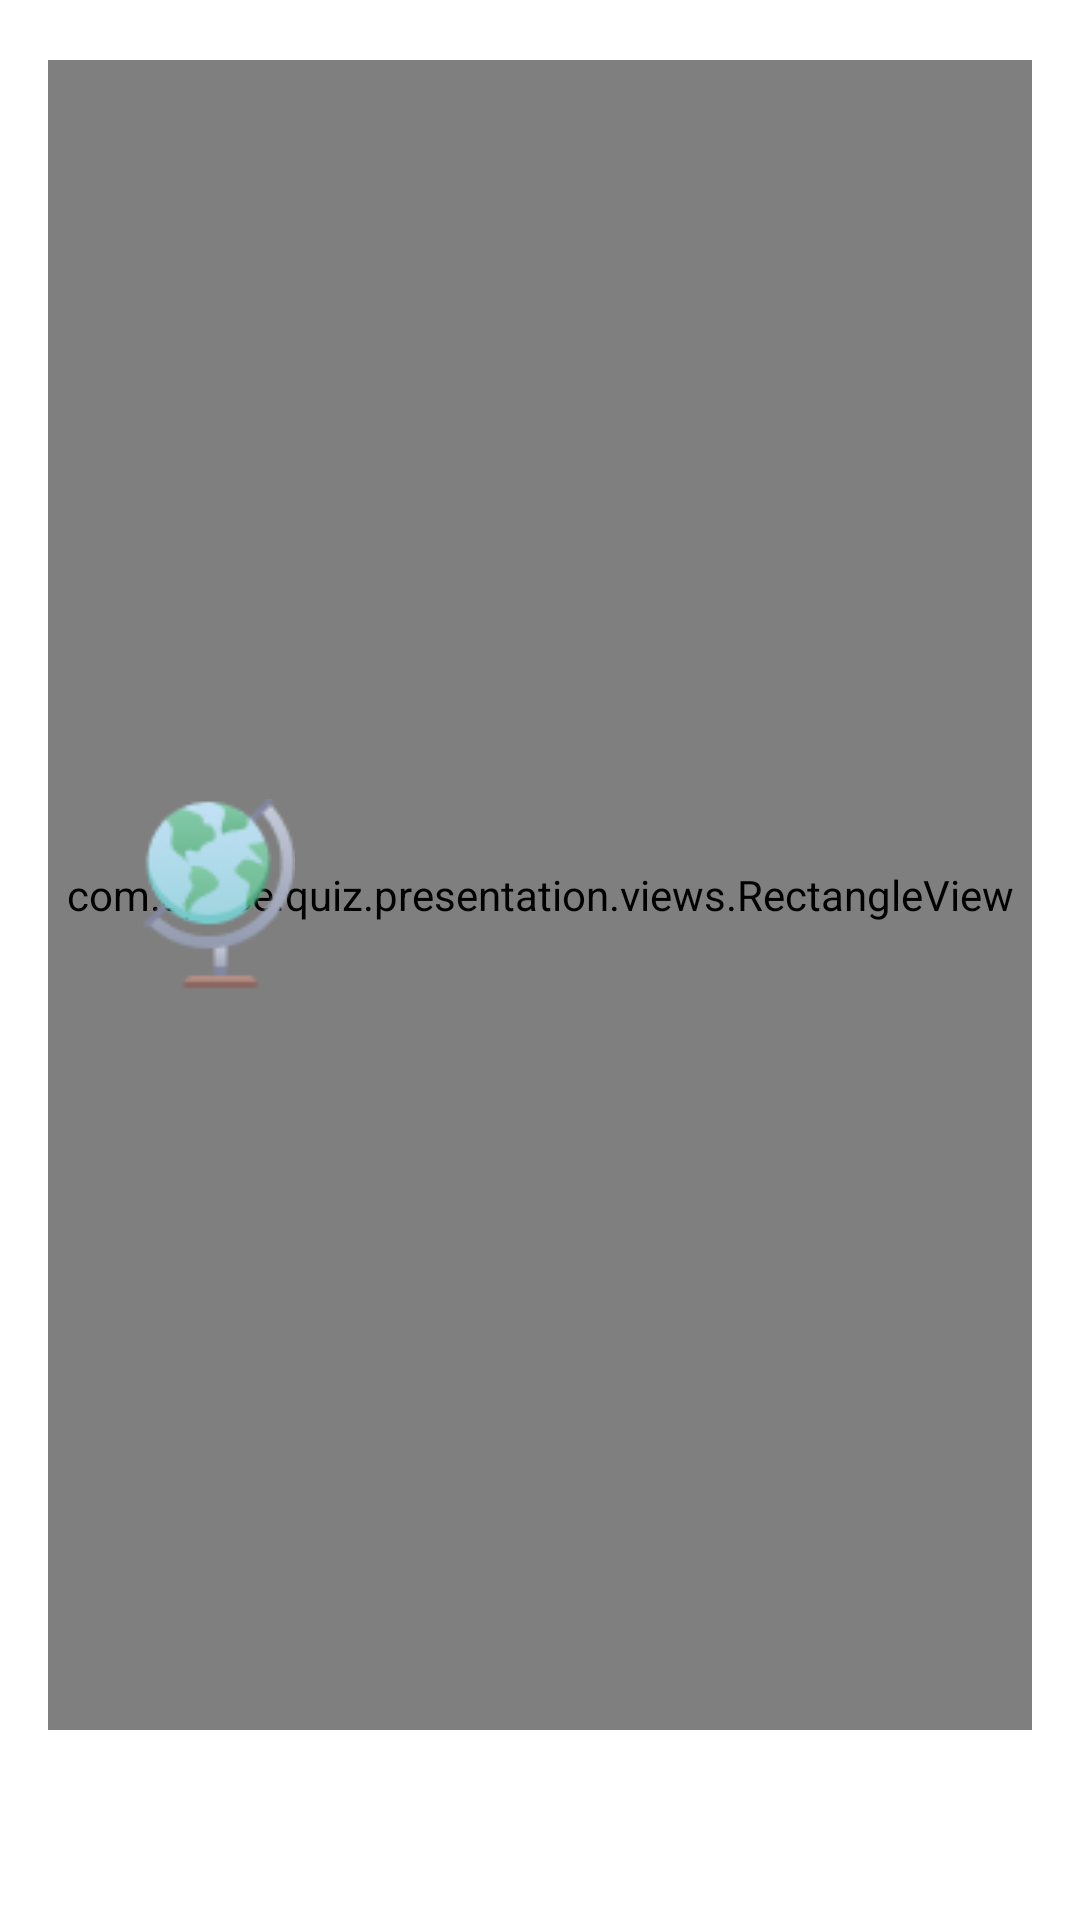

Screen size 1080*1920. Icon name, then its box in pixels as BBox(x1, y1, x2, y2):
geography: BBox(146, 799, 306, 987)
